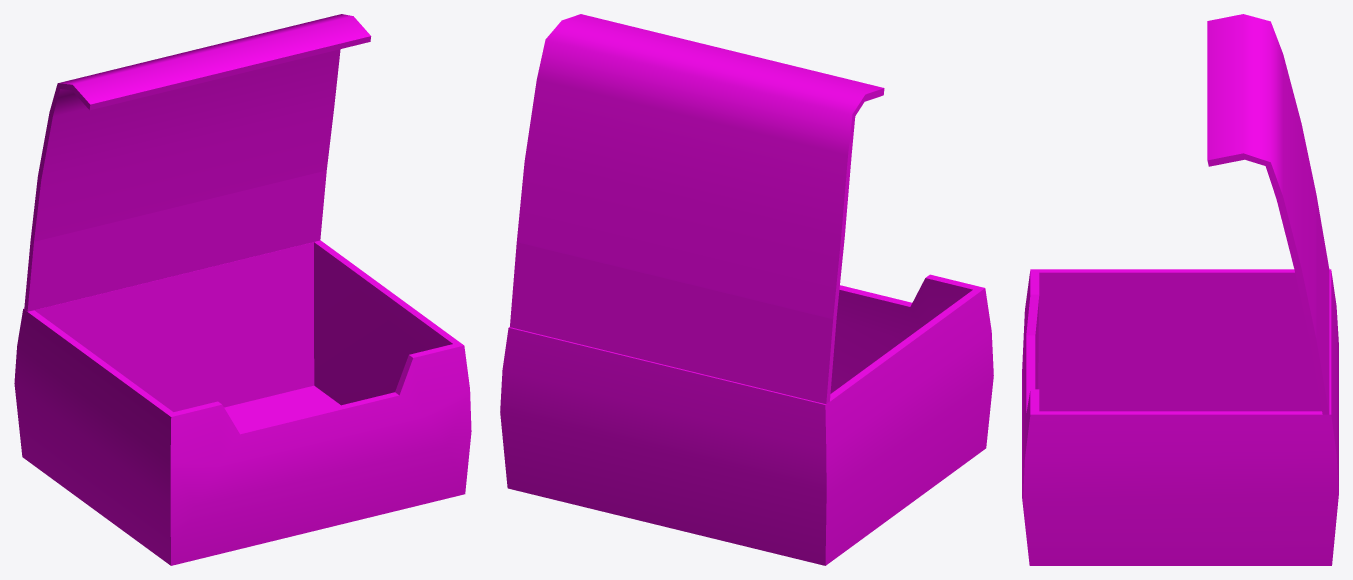
Rendered from box_large_open_meshCollider.fbx.
3 renders of one model, left to right at view 1: azimuth 30°, elevation 25°; view 2: azimuth 150°, elevation 25°; view 3: azimuth 270°, elevation 25°, orthographic. The views are drawn at different scales.
Parts seen in each view (by area): view 1: foods_package_box_cardboard_large_1_open_meshCollider; view 2: foods_package_box_cardboard_large_1_open_meshCollider; view 3: foods_package_box_cardboard_large_1_open_meshCollider.
Boxes of the visible parts, x1,y1,x2,y2 form: foods_package_box_cardboard_large_1_open_meshCollider: [14, 14, 471, 565]; foods_package_box_cardboard_large_1_open_meshCollider: [500, 14, 993, 565]; foods_package_box_cardboard_large_1_open_meshCollider: [1022, 14, 1338, 565].
Size of the model in its own units: 27.69 by 35.45 by 24.74.
